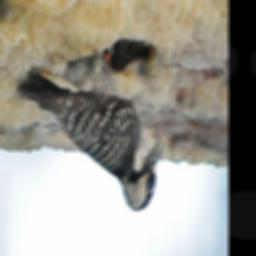Woodpecker: (15, 46, 166, 217)
